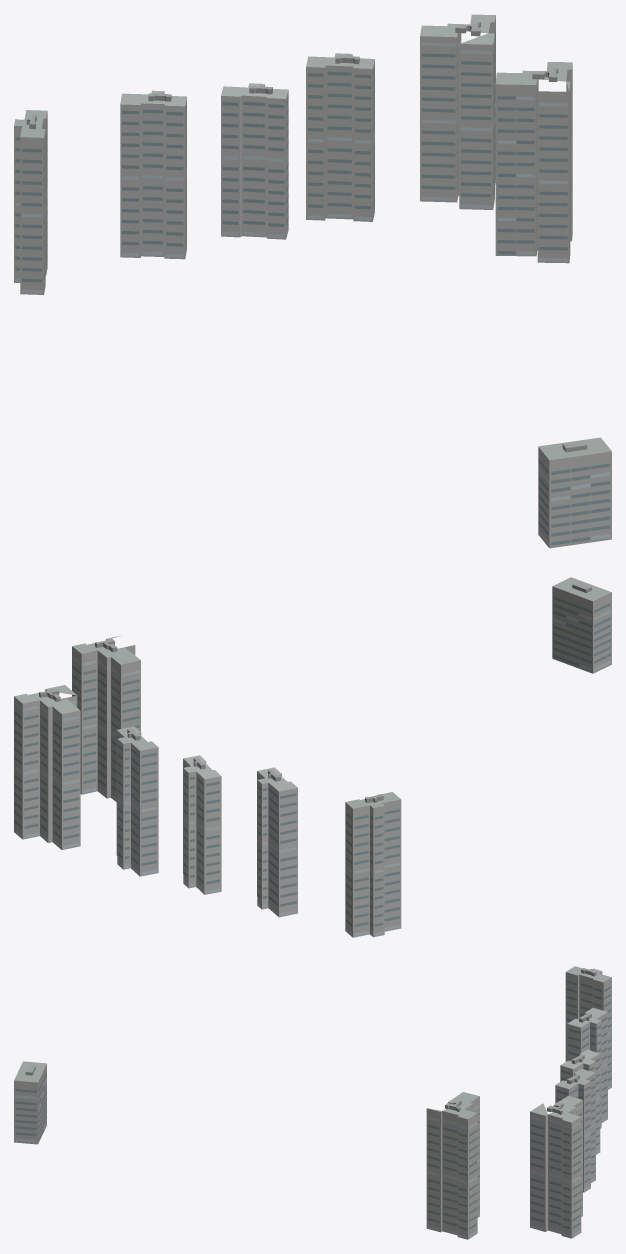
The model's file is apt-a13822001.glb.
3 views of the same model, one above another, from view 1: azimuth 30°, elevation 25°; view 2: azimuth 150°, elevation 25°; view 3: azimuth 270°, elevation 25° (orthographic). The views are drawn at different scales.
Parts seen in each view (by area): view 1: apt-a13822001; view 2: apt-a13822001; view 3: apt-a13822001.
Boxes of the visible parts, x1=… form: apt-a13822001: x1=14, y1=14, x2=611, y2=548; apt-a13822001: x1=14, y1=577, x2=611, y2=937; apt-a13822001: x1=14, y1=966, x2=611, y2=1239.
Bounding box in the file's own units: 243 × 86 × 376.
